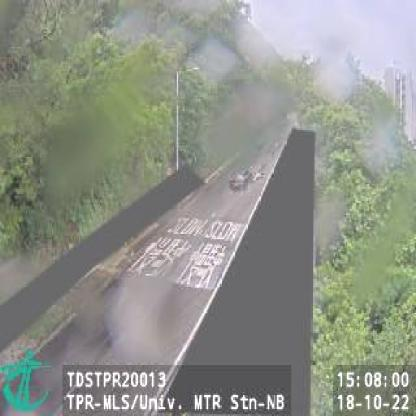Car: (228, 164, 253, 193)
